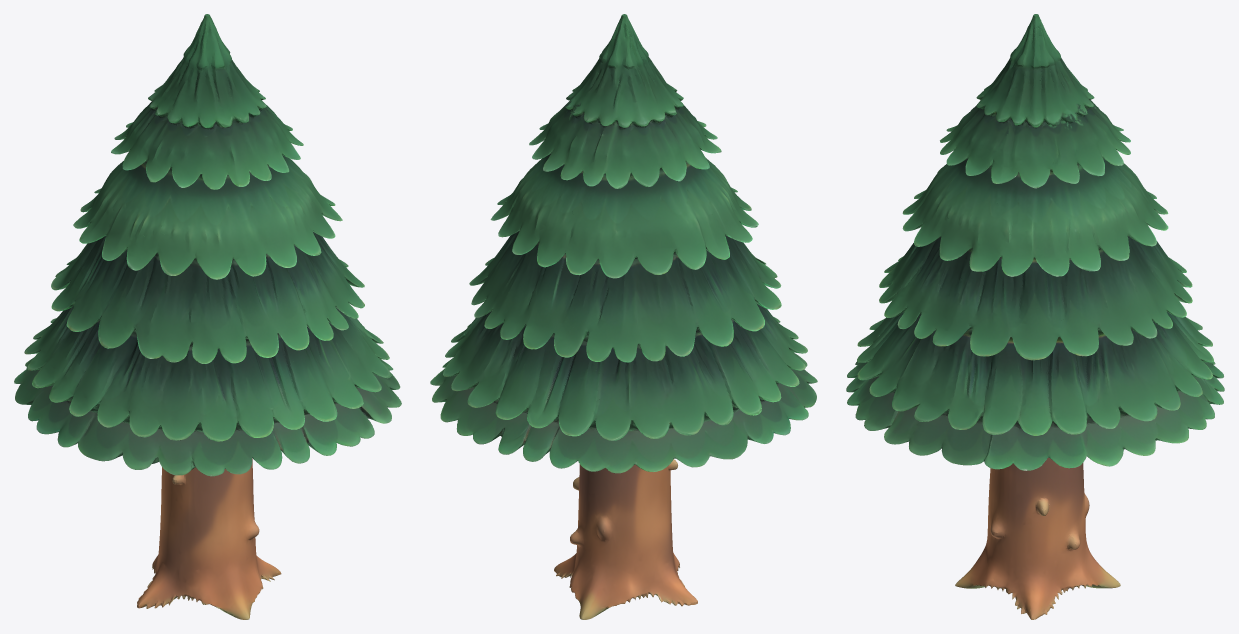
File: animal_crossing_pine_tree.glb
3 renders of one model, left to right at view 1: azimuth 30°, elevation 25°; view 2: azimuth 150°, elevation 25°; view 3: azimuth 270°, elevation 25°, orthographic.
Visible parts, largest first — view 1: Object_3, Object_2; view 2: Object_2, Object_3; view 3: Object_2, Object_3.
Boxes of the visible parts, left/top/right/bottom form: Object_3: left=14, top=14, right=388, bottom=618; Object_2: left=55, top=15, right=401, bottom=619; Object_2: left=430, top=15, right=765, bottom=619; Object_3: left=433, top=14, right=817, bottom=619; Object_2: left=846, top=15, right=1224, bottom=619; Object_3: left=847, top=14, right=1224, bottom=615.
Size of the model in its own units: 1.15 by 1.9 by 1.14.
Materials: 1 (1 with a texture image).
